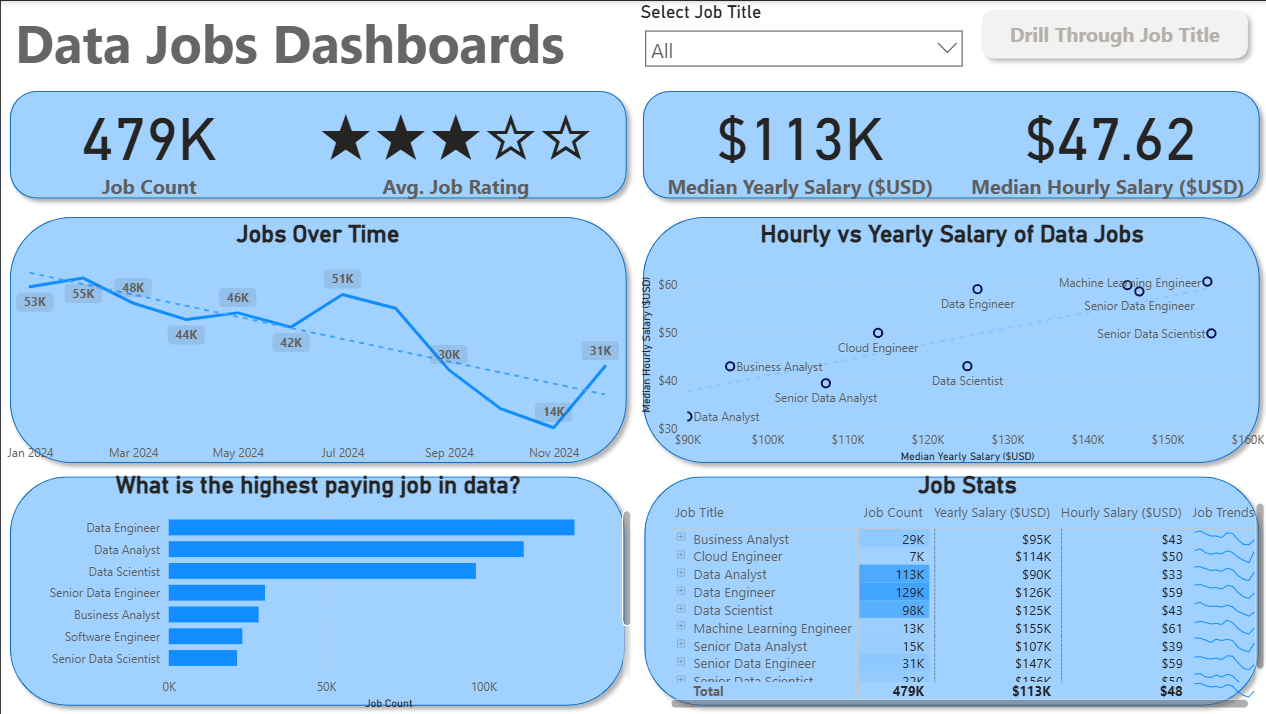

This screenshot's page, from the dashboard's own definition file:
{"tool":"powerbi","page":{"name":"Data Dashboards","canvas":[1280,720],"ordinal":0},"visuals":[{"type":"group","id":"g1","title":"Background","box":[0,81.3,1279.4,638.7],"z":0},{"type":"shape","box":[0,81.3,640.6,126.6],"z":0,"group":"g1"},{"type":"textbox","box":[9.6,0,631.7,80.9],"z":1000},{"type":"shape","box":[638.7,81.3,640.6,126.6],"z":1000,"group":"g1"},{"type":"slicer","title":"Select Job Title","fields":{"Values":["job_postings_flat (1).job_title_short"]},"box":[640.6,0,340.2,81.3],"z":2000},{"type":"shape","box":[0,207.9,640.6,266.5],"z":2000,"group":"g1"},{"type":"card","fields":{"Values":["Median(job_postings_flat (1).salary_year_avg)"]},"box":[660.2,80.3,292.2,127.2],"z":3000},{"type":"shape","box":[638.7,207.9,640.6,266.5],"z":3000,"group":"g1"},{"type":"card","fields":{"Values":["Median(job_postings_flat (1).salary_hour_avg)"]},"box":[960,80.3,319.5,127.2],"z":4000},{"type":"shape","box":[0,470.6,638.7,249.5],"z":4000,"group":"g1"},{"type":"card","fields":{"Values":["job_postings_flat (1).Salary Star Rating"]},"box":[298.3,80.3,321,127.2],"z":5000},{"type":"shape","box":[640.6,470.6,638.7,249.5],"z":5000,"group":"g1"},{"type":"card","fields":{"Values":["CountNonNull(job_postings_flat (1).job_title_short)"]},"box":[0,80.3,298.3,127.2],"z":6000},{"type":"lineChart","title":"Jobs Over Time","fields":{"Category":["job_postings_flat (1).job_posted_date.Variation.Date Hierarchy.Year","job_postings_flat (1).job_posted_date.Variation.Date Hierarchy.Quarter","job_postings_flat (1).job_posted_date.Variation.Date Hierarchy.Month","job_postings_flat (1).job_posted_date.Variation.Date Hierarchy.Day"],"Y":["CountNonNull(job_postings_flat (1).job_title_short)"]},"box":[0,221.1,640.5,252.9],"z":8000},{"type":"barChart","title":"What is the highest paying job in data?","fields":{"Category":["job_postings_flat (1).job_title_short"],"Y":["CountNonNull(job_postings_flat (1).job_title_short)"]},"box":[0,473.9,640.5,245.3],"z":9000},{"type":"scatterChart","title":"Hourly vs Yearly Salary of Data Jobs","fields":{"X":["Median(job_postings_flat (1).salary_year_avg)"],"Y":["Median(job_postings_flat (1).salary_hour_avg)"],"Series":["job_postings_flat (1).job_title_short"]},"box":[640.7,221,639.3,249],"z":10000},{"type":"pivotTable","title":"Job Stats","fields":{"Rows":["job_postings_flat (1).job_title_short","job_postings_flat (1).job_posted_date.Variation.Date Hierarchy.Quarter"],"Values":["CountNonNull(job_postings_flat (1).job_title_short)","Median(job_postings_flat (1).salary_year_avg)","Median(job_postings_flat (1).salary_hour_avg)","SparklineData(CountNonNull(job_postings_flat (1).job_title_short)_[job_postings_flat (1).job_posted_date.Variation.Date "]},"box":[670.1,474.3,610,244.8],"z":11000},{"type":"actionButton","box":[981.2,0,286.2,66.6],"z":12000}]}

Visuals, with their boxes in screenshot pixels (x1, y1, x2, y2), scaled from the page's 1280x720 canvas onto the 1266x714 screenshot:
"Background" group: <box>0,81,1265,713</box>
shape: <box>0,81,634,206</box>
textbox: <box>9,0,634,80</box>
shape: <box>632,81,1265,206</box>
"Select Job Title" slicer: <box>634,0,970,81</box>
shape: <box>0,206,634,470</box>
card - Median(job_postings_flat (1).salary_year_avg): <box>653,80,942,206</box>
shape: <box>632,206,1265,470</box>
card - Median(job_postings_flat (1).salary_hour_avg): <box>950,80,1265,206</box>
shape: <box>0,467,632,713</box>
card - job_postings_flat (1).Salary Star Rating: <box>295,80,613,206</box>
shape: <box>634,467,1265,713</box>
card - CountNonNull(job_postings_flat (1).job_title_short): <box>0,80,295,206</box>
"Jobs Over Time" lineChart: <box>0,219,633,470</box>
"What is the highest paying job in data?" barChart: <box>0,470,633,713</box>
"Hourly vs Yearly Salary of Data Jobs" scatterChart: <box>634,219,1265,466</box>
"Job Stats" pivotTable: <box>663,470,1265,713</box>
actionButton: <box>970,0,1254,66</box>
